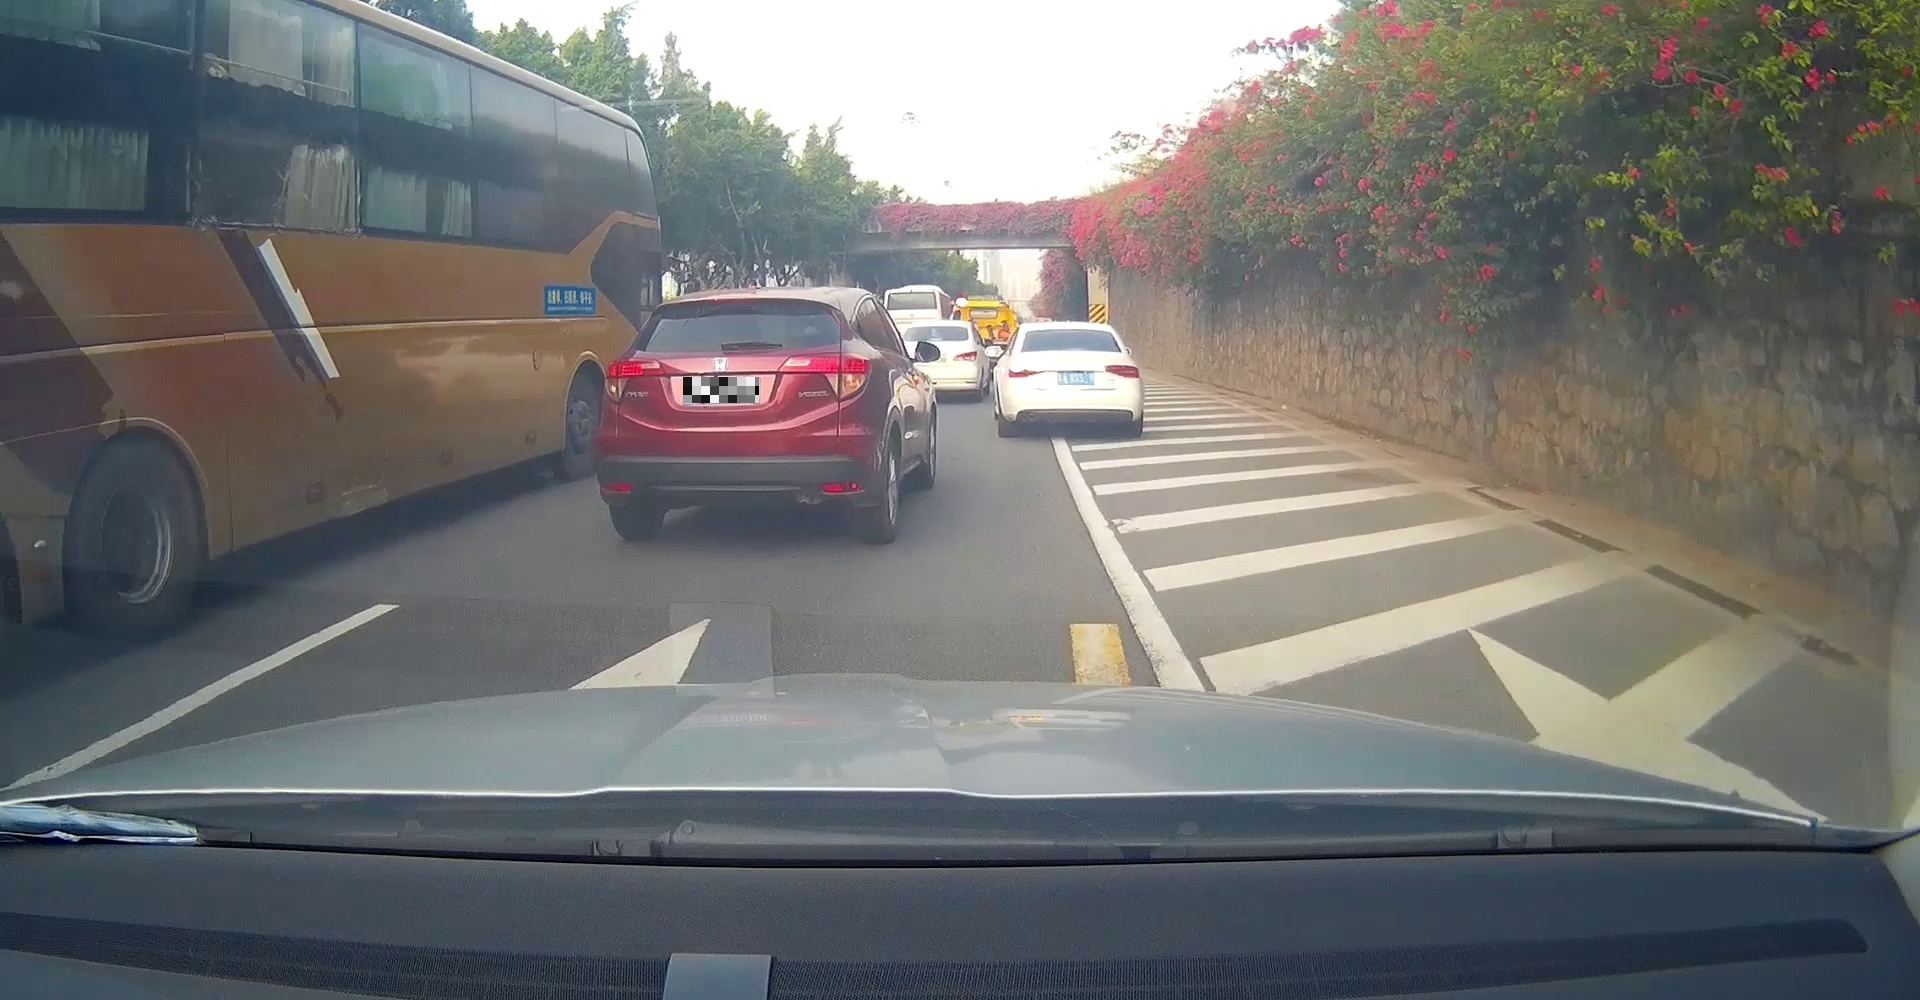L_light: (604, 357, 668, 404), (1008, 364, 1046, 377)
R_light: (777, 352, 871, 404), (1105, 364, 1140, 378)
T_light: (715, 294, 756, 303), (1059, 327, 1083, 334)
day-left: (1004, 321, 1143, 437)
day-no: (596, 286, 879, 544)
plate_1: (683, 377, 759, 404)
